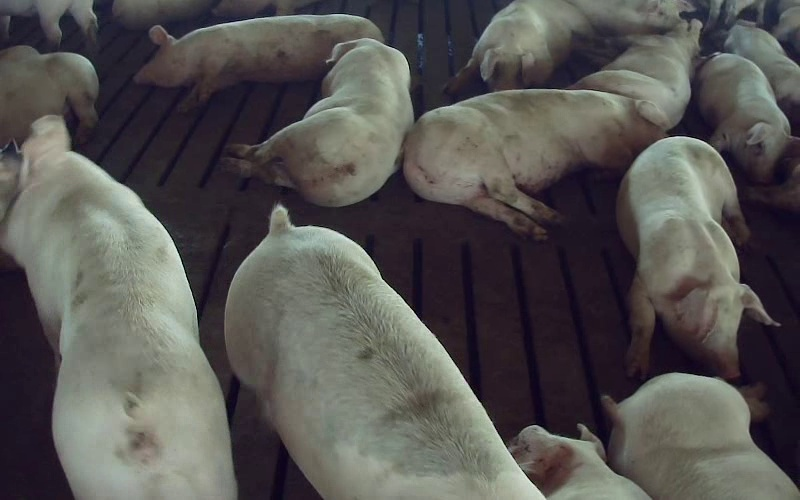pig: (225, 206, 542, 499), (0, 115, 236, 499), (405, 22, 699, 238), (617, 137, 777, 378), (221, 39, 413, 206), (602, 373, 799, 499), (134, 14, 382, 110), (569, 20, 701, 130), (445, 0, 592, 93), (693, 53, 790, 182), (713, 20, 799, 127), (570, 0, 693, 35)
